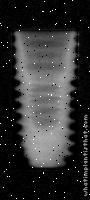Osstem Implant: (10, 29, 78, 170)
